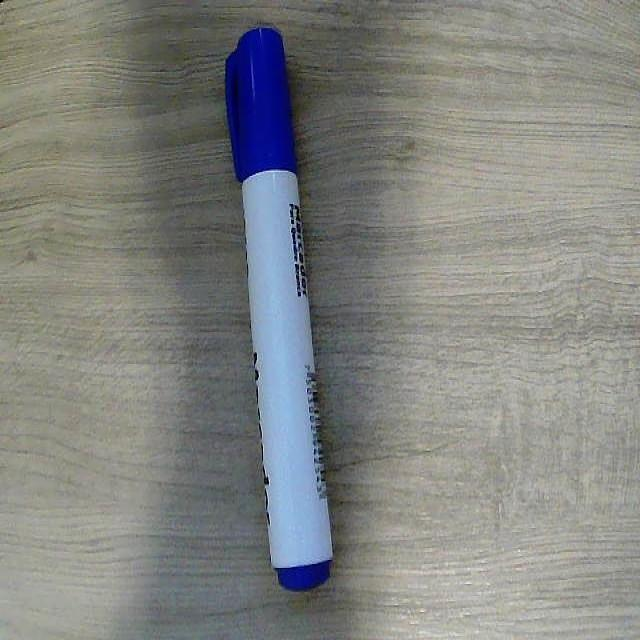caneta: (208, 30, 354, 608)
